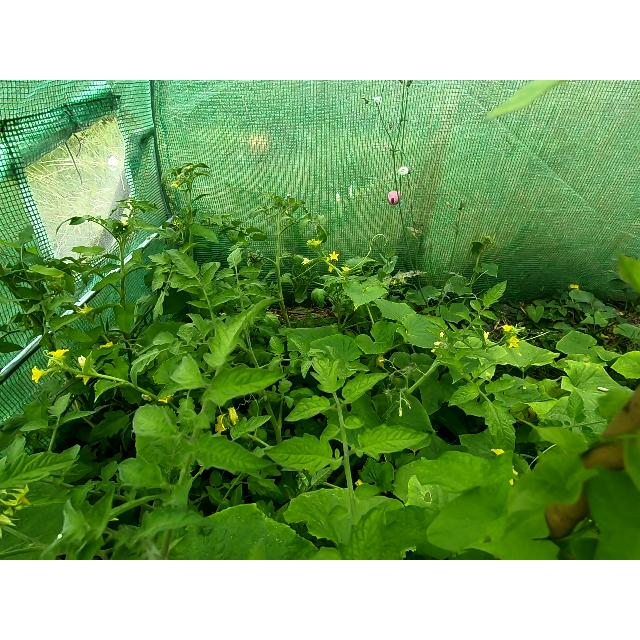Flowers: (1, 486, 32, 514), (216, 406, 240, 432), (504, 325, 520, 347), (28, 366, 48, 382), (74, 302, 95, 316), (48, 348, 68, 358), (328, 252, 339, 262)
